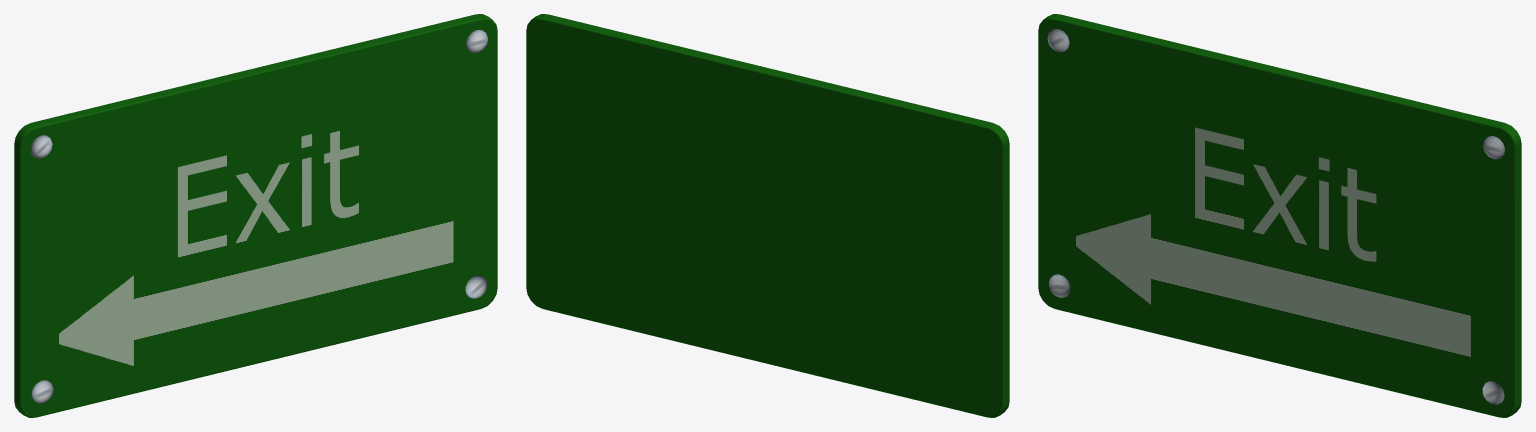
File: exitsign.fbx
3 renders of one model, left to right at view 1: azimuth 30°, elevation 25°; view 2: azimuth 150°, elevation 25°; view 3: azimuth 330°, elevation 25°, orthographic.
Parts seen in each view (by area): view 1: exitsign1; view 2: exitsign1; view 3: exitsign1.
Boxes of the visible parts, left/top/right/bottom form: exitsign1: left=14, top=14, right=497, bottom=417; exitsign1: left=526, top=14, right=1009, bottom=417; exitsign1: left=1038, top=14, right=1521, bottom=417.
Size of the model in its own units: 4.08 by 2.37 by 0.1243.
